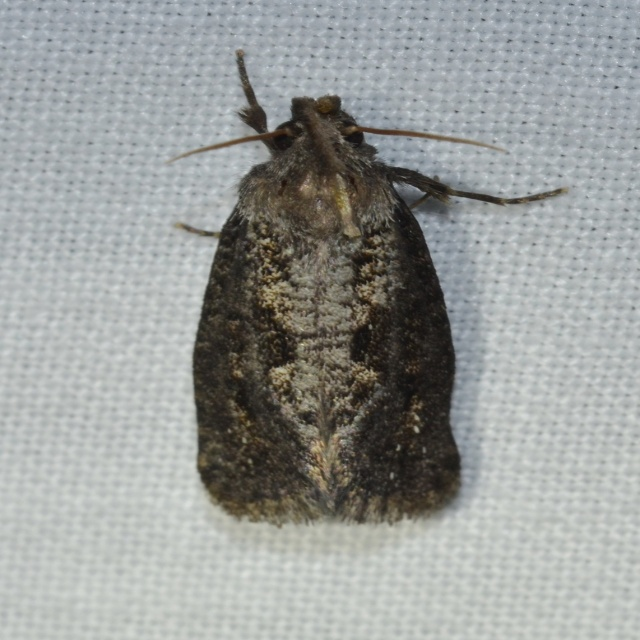Moths and butterflies: (175, 46, 575, 524)
